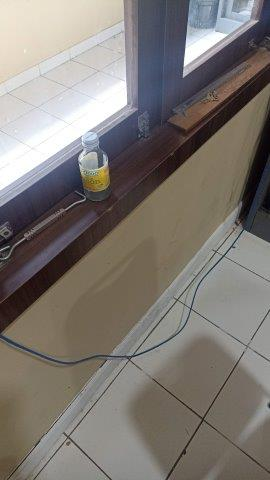botolkaca: (79, 133, 111, 204)
